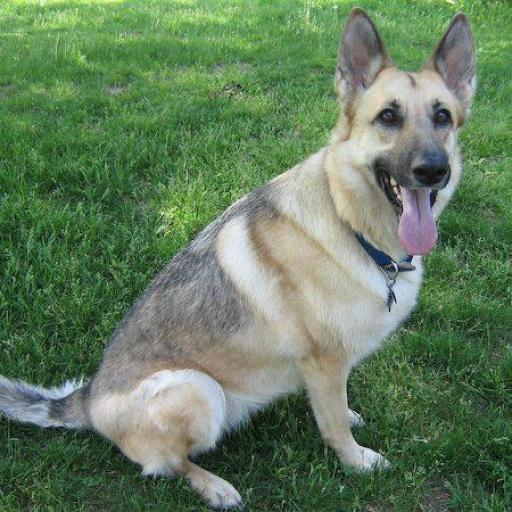dog_face: (340, 10, 480, 234)
